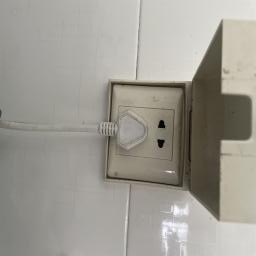outlet: (95, 78, 189, 187)
